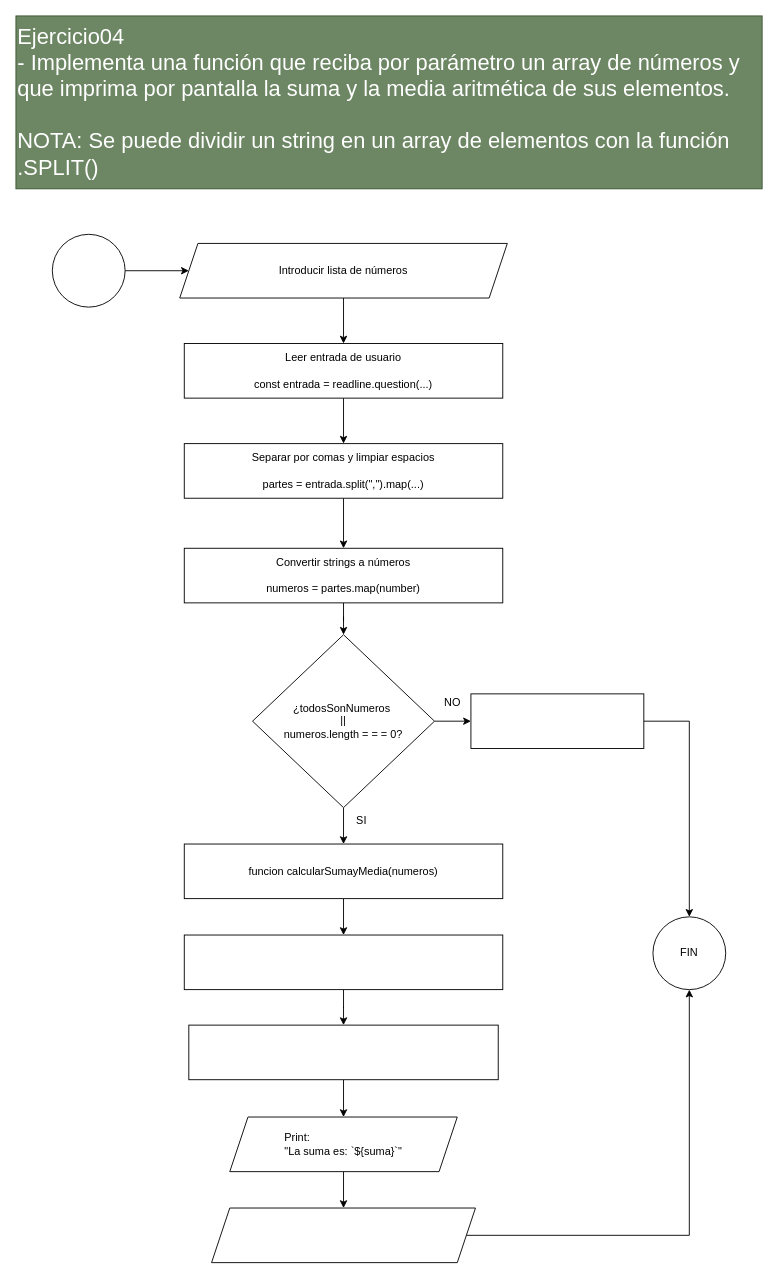
This 778x1279 diagram has some shape labels left out. The shapes that lost their labels are listed below. From the top down, each one's centre as x and y in pixels, then its label:
pixel 88 270: INICIO
pixel 557 720: Print: "Introduce números validos"
pixel 343 962: Calcular suma const suma = numeros.reduce((acc,num) =>acc+num, 0)
pixel 343 1052: Calcular media const media = suma / numeros.length
pixel 343 1235: Print: " La media aritmética es: `${media.toFixed(2)}`"
